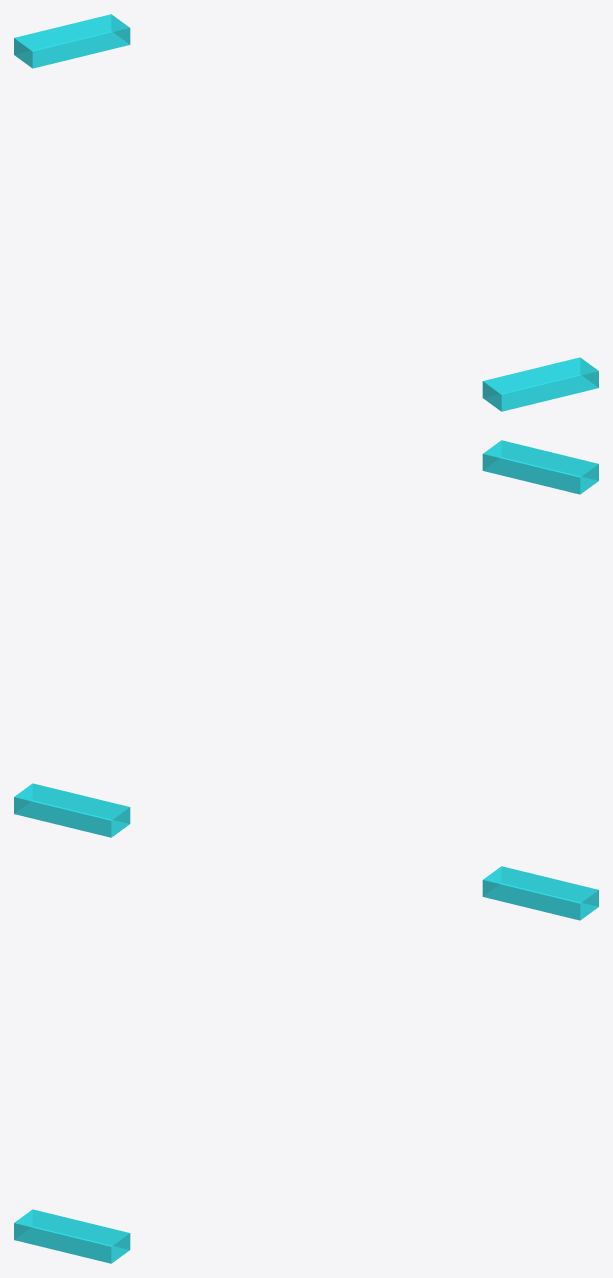
Rendered from SBonus Lvl11.fbx.
3 views of the same model, one above another, from view 1: azimuth 30°, elevation 25°; view 2: azimuth 150°, elevation 25°; view 3: azimuth 330°, elevation 25° (orthographic).
Parts seen in each view (by area): view 1: SBonus.001, SBonus.002; view 2: SBonus.001, SBonus.002; view 3: SBonus.001, SBonus.002.
Boxes of the visible parts, bbox=[...] form: SBonus.001: bbox=[482, 357, 598, 411]; SBonus.002: bbox=[14, 14, 130, 68]; SBonus.001: bbox=[482, 440, 598, 494]; SBonus.002: bbox=[14, 783, 130, 837]; SBonus.001: bbox=[14, 1209, 130, 1263]; SBonus.002: bbox=[482, 866, 598, 920].
Bounding box in the file's own units: 600 × 100 × 5200.
